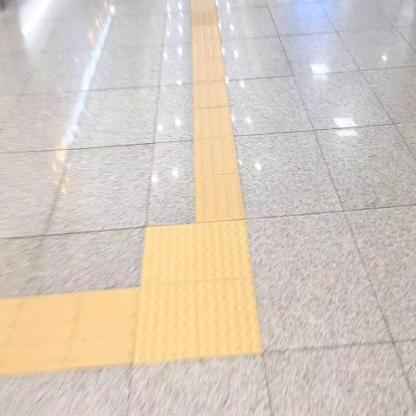podotacti: (111, 192, 293, 388), (0, 286, 136, 382), (190, 1, 245, 217)
